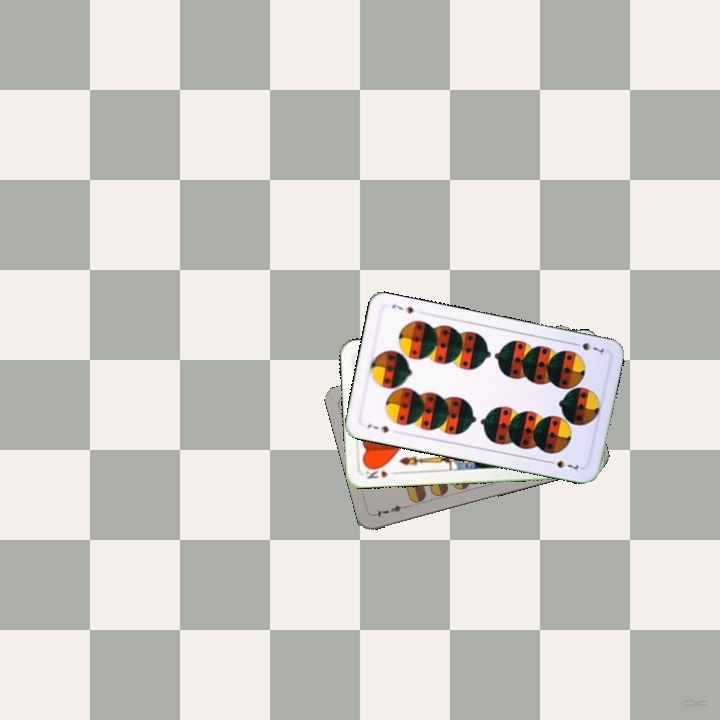E7: (371, 501, 411, 520)
HK: (362, 463, 391, 482)
S7: (568, 338, 607, 358), (363, 420, 391, 435)
